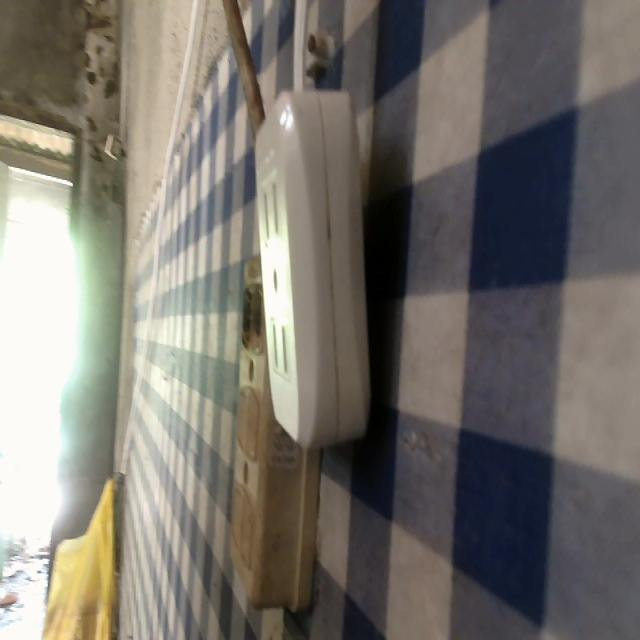-: (232, 275, 268, 349)
